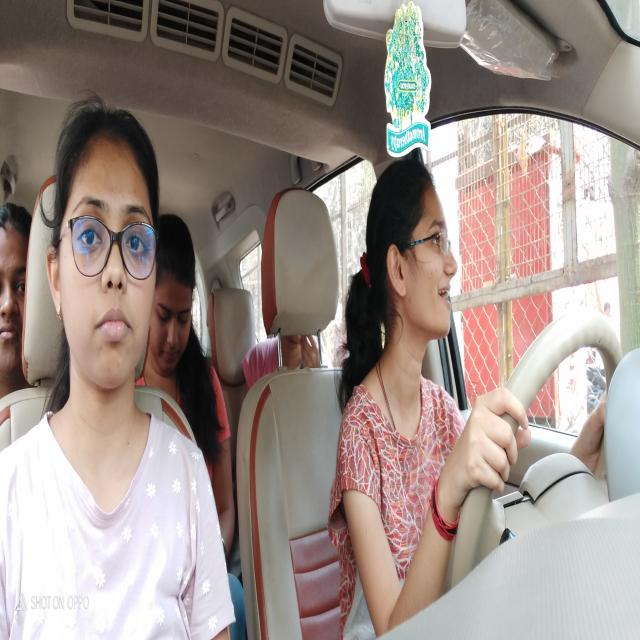LeftRight: (372, 159, 456, 337)
person: (62, 136, 158, 390), (1, 216, 25, 369), (159, 261, 193, 369)
